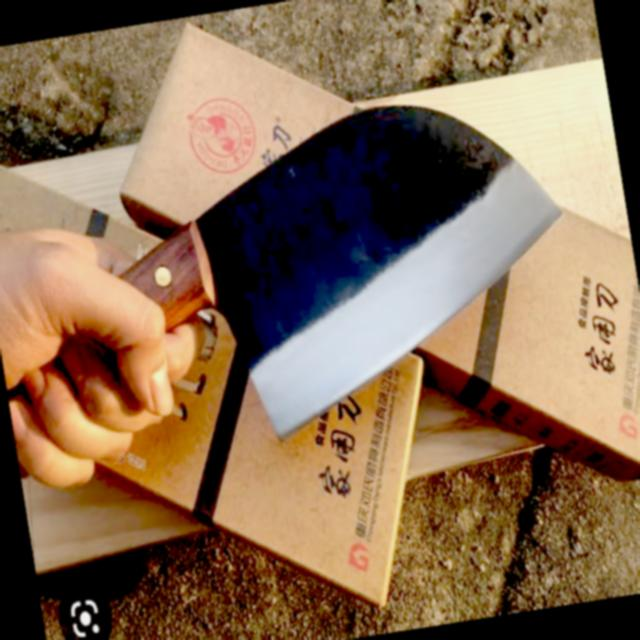knife: (0, 71, 597, 501)
